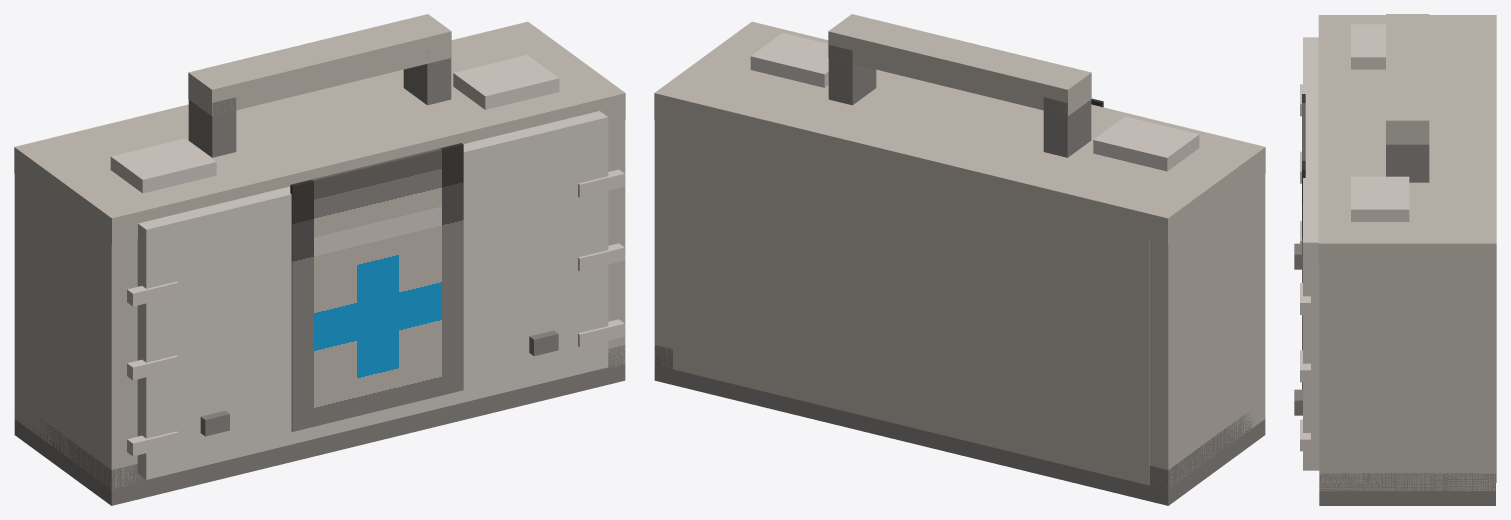
Rendered from CMU3DCMFirstAidKitSurgeryMedicalSmallCloud.glb.
3 views of the same model, side by side, from view 1: azimuth 30°, elevation 25°; view 2: azimuth 150°, elevation 25°; view 3: azimuth 270°, elevation 25° (orthographic). The views are drawn at different scales.
Parts seen in each view (by area): view 1: closed front lid, original center kit marking, case top rail, left shell wall, case bottom, carry handle top bridge, top clasp 0.25, top clasp -0.25, right shell wall, left handle upright, right handle upright, left case molded rib 2 (+5 smaller); view 2: case rear shell, case top rail, left shell wall, case bottom, carry handle top bridge, right shell wall, top clasp -0.25, top clasp 0.25, left handle upright, right handle upright; view 3: right shell wall, case top rail, closed front lid, carry handle top bridge, case bottom, top clasp 0.25, top clasp -0.25, right handle upright, original center kit marking, right case molded rib 1, right case molded rib 0, right case molded rib 2 (+1 smaller).
Boxes of the visible parts, x1=… form: closed front lid: x1=137, y1=111, x2=608, y2=479; original center kit marking: x1=290, y1=143, x2=463, y2=431; case top rail: x1=14, y1=21, x2=625, y2=244; left shell wall: x1=14, y1=163, x2=140, y2=489; case bottom: x1=14, y1=345, x2=625, y2=505; carry handle top bridge: x1=188, y1=14, x2=451, y2=115; top clasp 0.25: x1=453, y1=55, x2=559, y2=109; top clasp -0.25: x1=110, y1=138, x2=216, y2=193; right shell wall: x1=599, y1=120, x2=625, y2=370; left handle upright: x1=188, y1=97, x2=236, y2=157; right handle upright: x1=403, y1=50, x2=451, y2=105; left case molded rib 2: x1=127, y1=281, x2=178, y2=306; case rear shell: x1=673, y1=113, x2=1149, y2=485; case top rail: x1=654, y1=21, x2=1265, y2=244; left shell wall: x1=1149, y1=174, x2=1265, y2=488; case bottom: x1=654, y1=345, x2=1265, y2=505; carry handle top bridge: x1=828, y1=14, x2=1091, y2=115; right shell wall: x1=654, y1=120, x2=672, y2=365; top clasp -0.25: x1=1093, y1=116, x2=1199, y2=171; top clasp 0.25: x1=750, y1=33, x2=828, y2=87; left handle upright: x1=1043, y1=97, x2=1091, y2=157; right handle upright: x1=828, y1=45, x2=876, y2=105; right shell wall: x1=1319, y1=258, x2=1495, y2=491; case top rail: x1=1318, y1=15, x2=1496, y2=267; closed front lid: x1=1303, y1=37, x2=1319, y2=470; carry handle top bridge: x1=1386, y1=14, x2=1429, y2=144; case bottom: x1=1319, y1=473, x2=1495, y2=505; top clasp 0.25: x1=1351, y1=176, x2=1409, y2=221; top clasp -0.25: x1=1351, y1=24, x2=1385, y2=69; right handle upright: x1=1386, y1=144, x2=1429, y2=182; original center kit marking: x1=1302, y1=94, x2=1305, y2=389; right case molded rib 1: x1=1300, y1=350, x2=1310, y2=382; right case molded rib 0: x1=1300, y1=419, x2=1310, y2=451; right case molded rib 2: x1=1300, y1=283, x2=1310, y2=314.
Size of the model in its own units: 0.75 by 0.4965 by 0.2805.
Materials: 6 (1 with a texture image).
